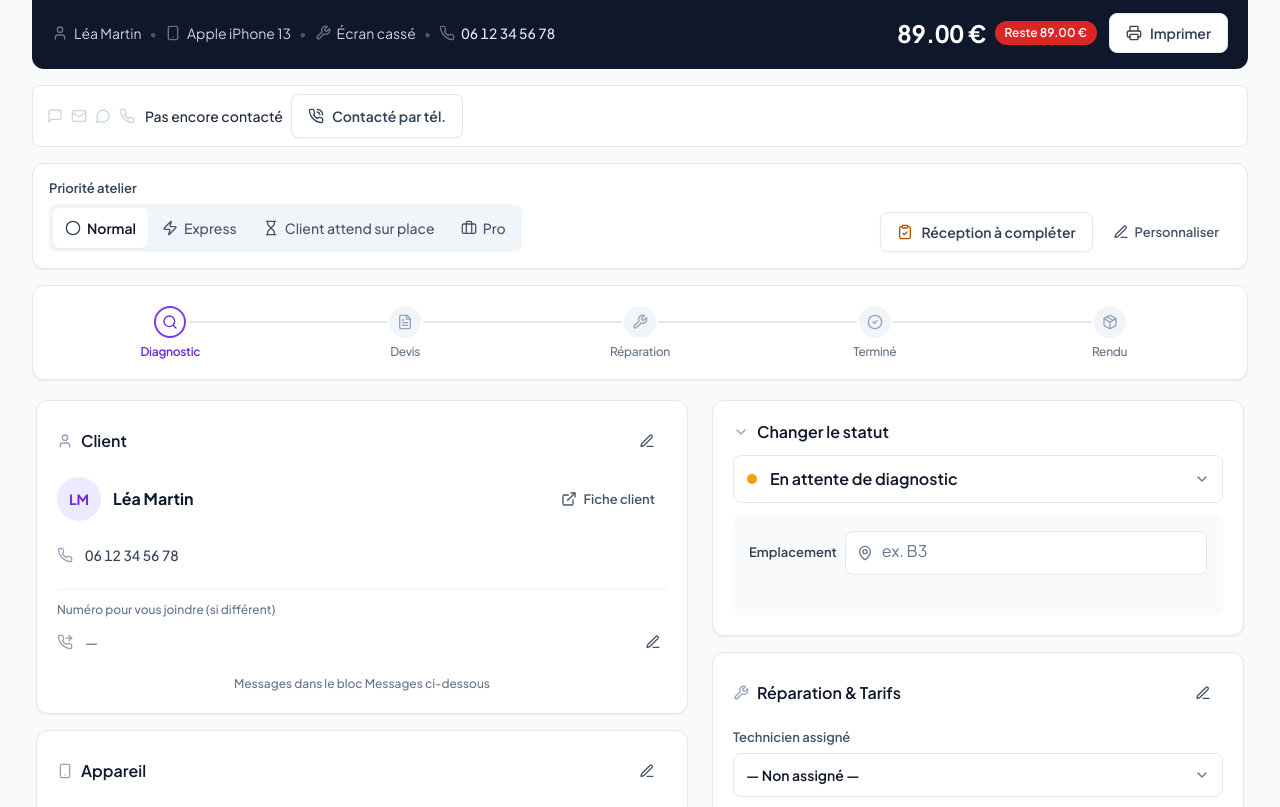
Fiche : commandes et notes relues après un statut › deux statuts coup sur coup : la réponse tardive de la 1re relecture n’écrase pas la 2e
The image size is (1280, 807).
Select "Pièce reçue" in the dropdown labelled "Changer le statut" at (978, 479), box left=733, top=455, right=1223, bottom=503
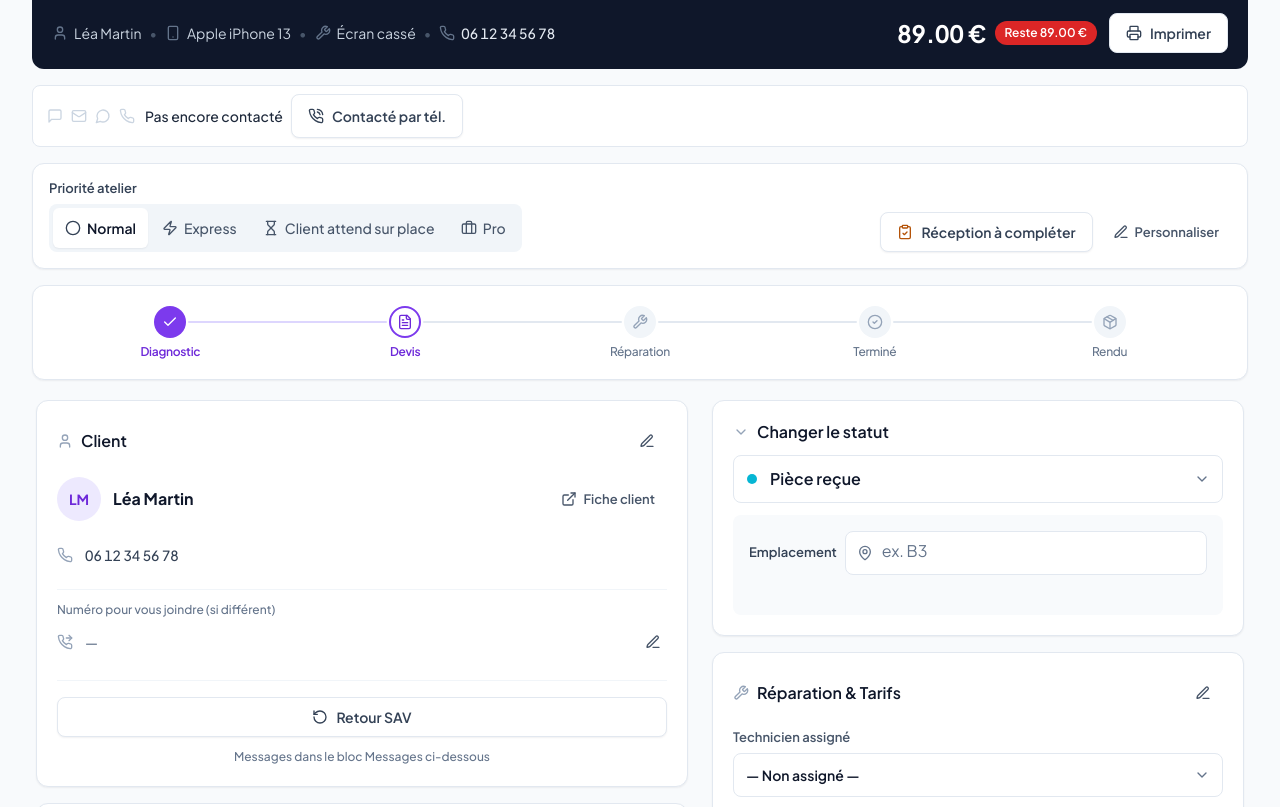
Select "En cours de réparation" in the dropdown labelled "Changer le statut" at (978, 479), box left=733, top=455, right=1223, bottom=503
(page scrolled)
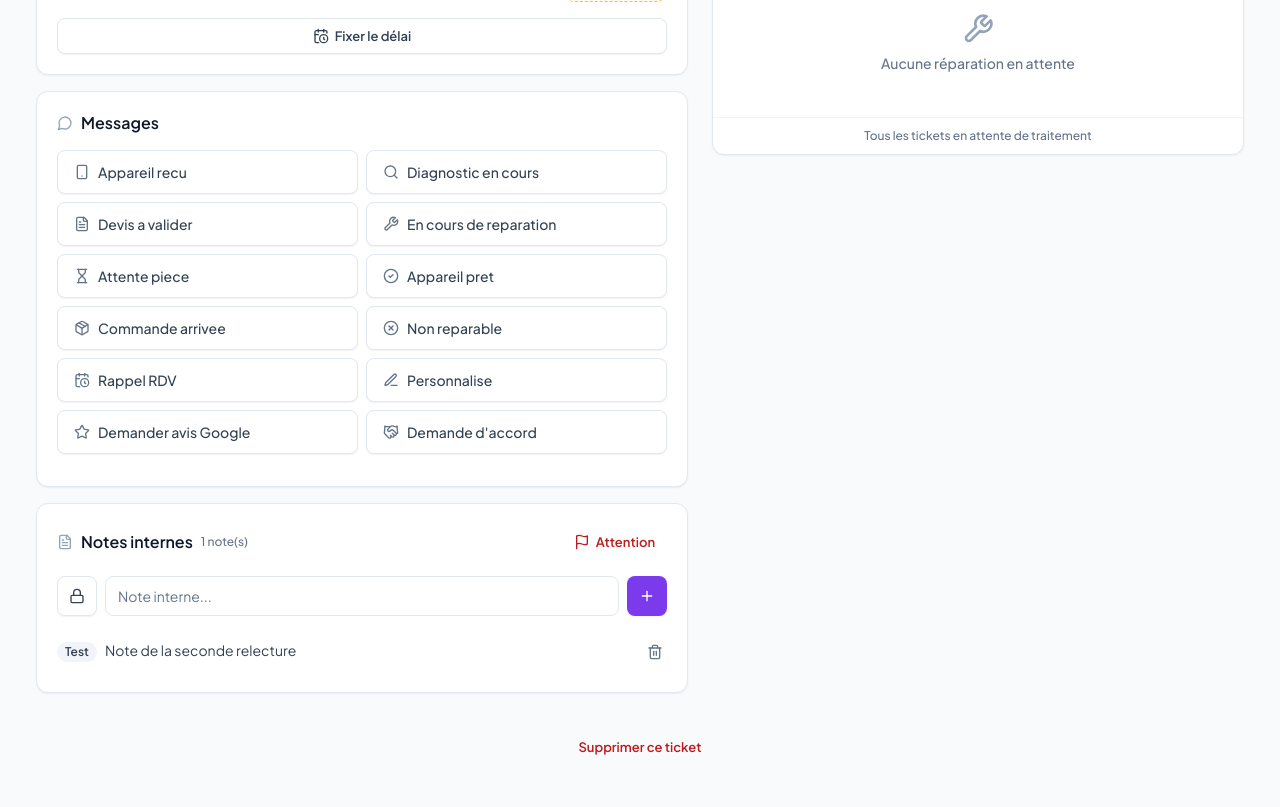
Check: the text "Note de la seconde relecture" is shown, box left=105, top=641, right=296, bottom=659
